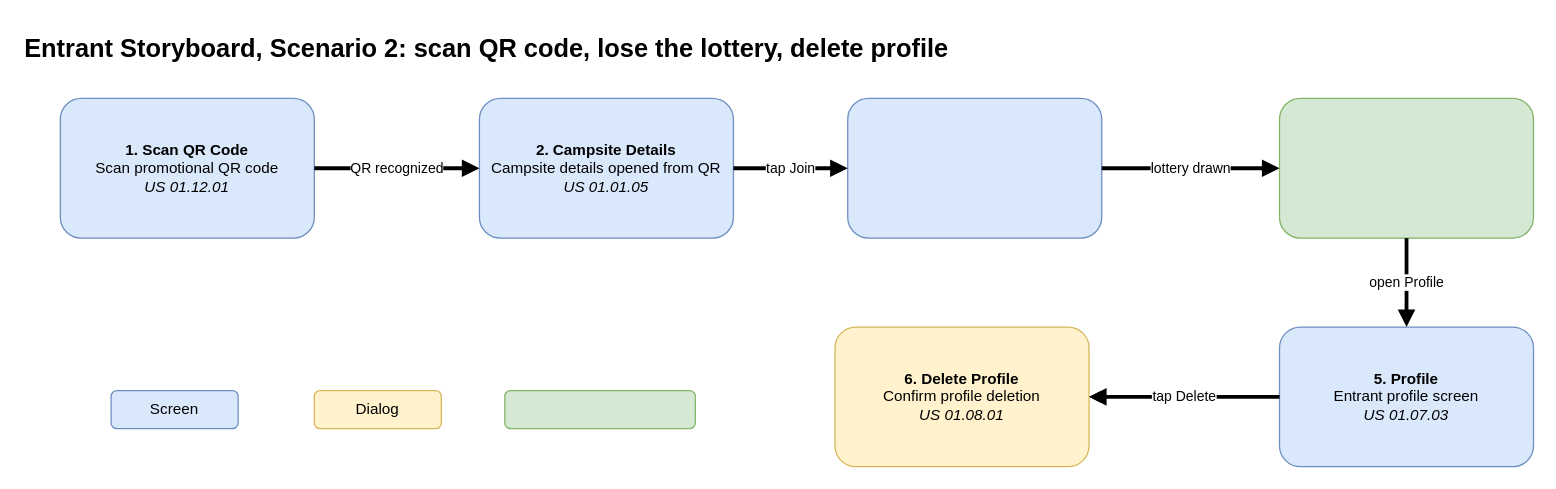
Some shapes in this 1556 by 489 pixel diagram are drawn without their labels. Each missing label, with the centre of its shape:
"3. Join Waitlist Join the active lottery US 01.01.06, 01.02.01" goes at point 974,167.
"4. Lose Notification Entrant is told they did not win US 01.03.02" goes at point 1406,167.
"System / Notification" goes at point 599,409.
